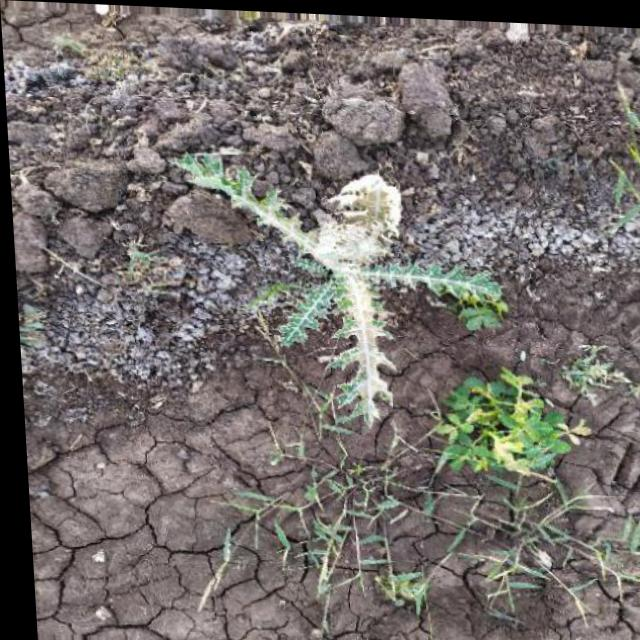weed: (167, 140, 519, 415), (433, 353, 596, 516)
